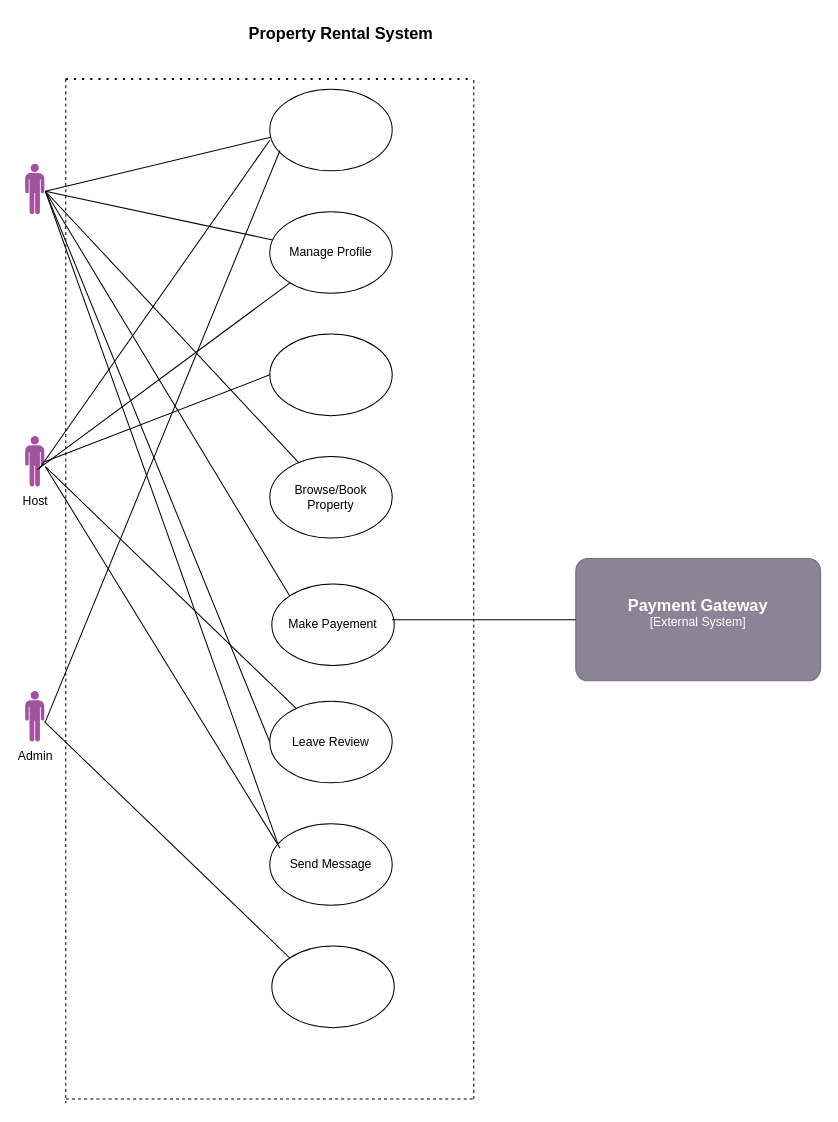
This 838x1122 diagram has some shape labels left out. The shapes that lost their labels are listed below. From the top down, each one's centre as x and y in pixels, then its label:
At point (330, 129): "Register/Login".
At point (34, 189): "Guest".
At point (330, 374): "List Property".
At point (332, 986): "Manage Users".
